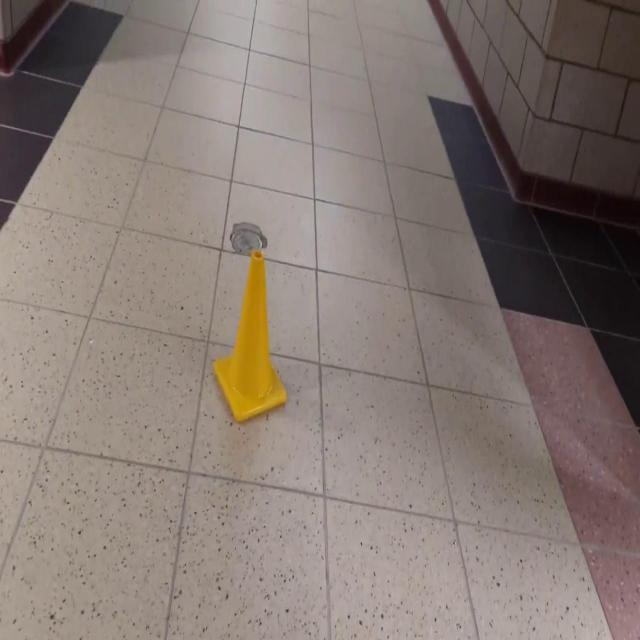frc_cone: (210, 246, 290, 429)
